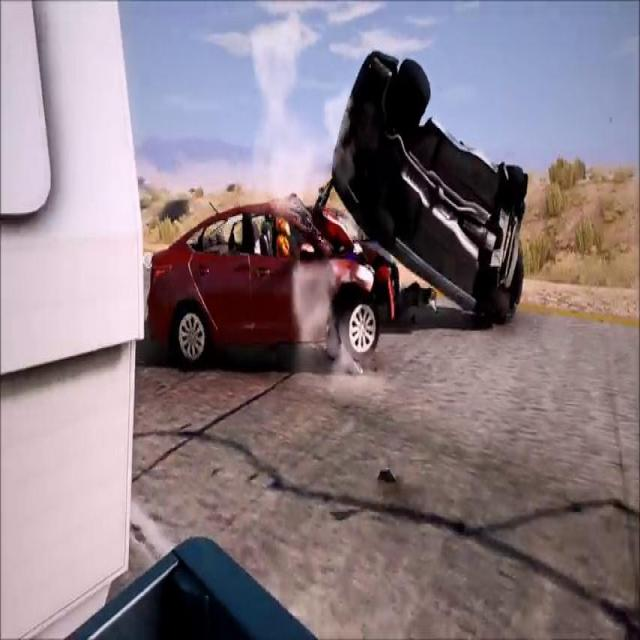accident: (145, 48, 533, 367)
